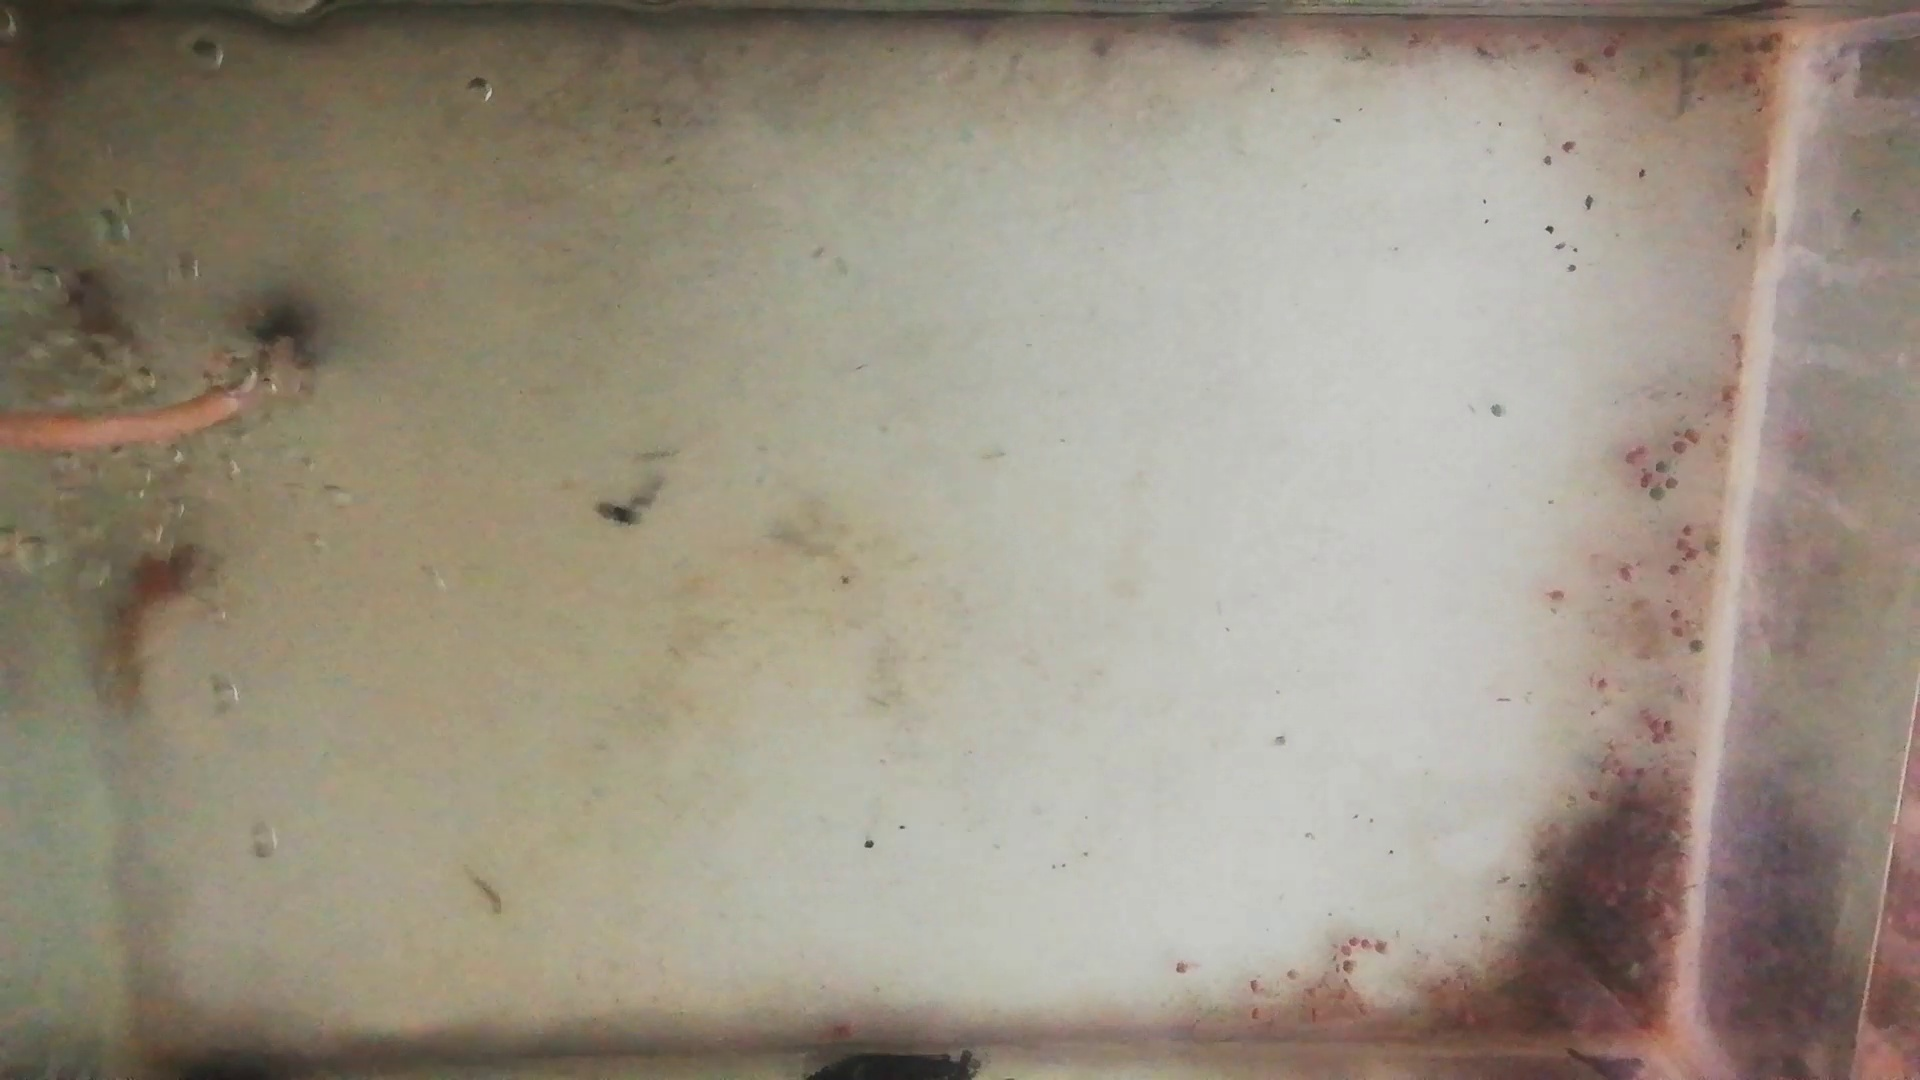fish: (99, 542, 231, 711), (66, 266, 152, 401)
